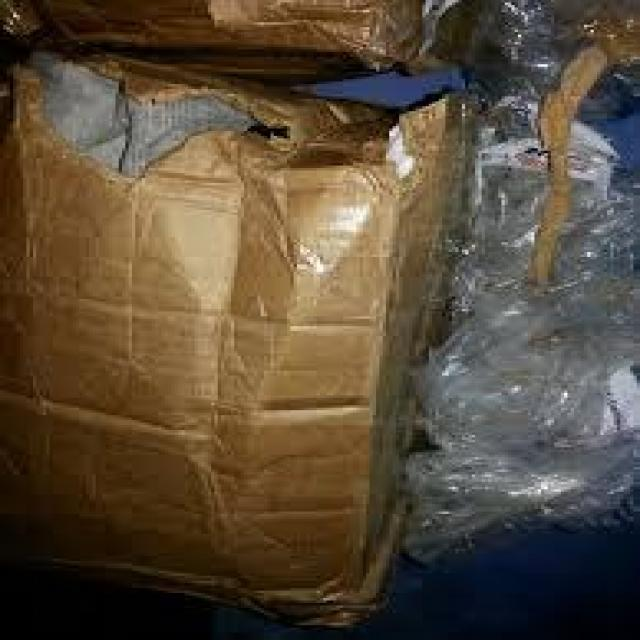damaged: (30, 64, 280, 180)
